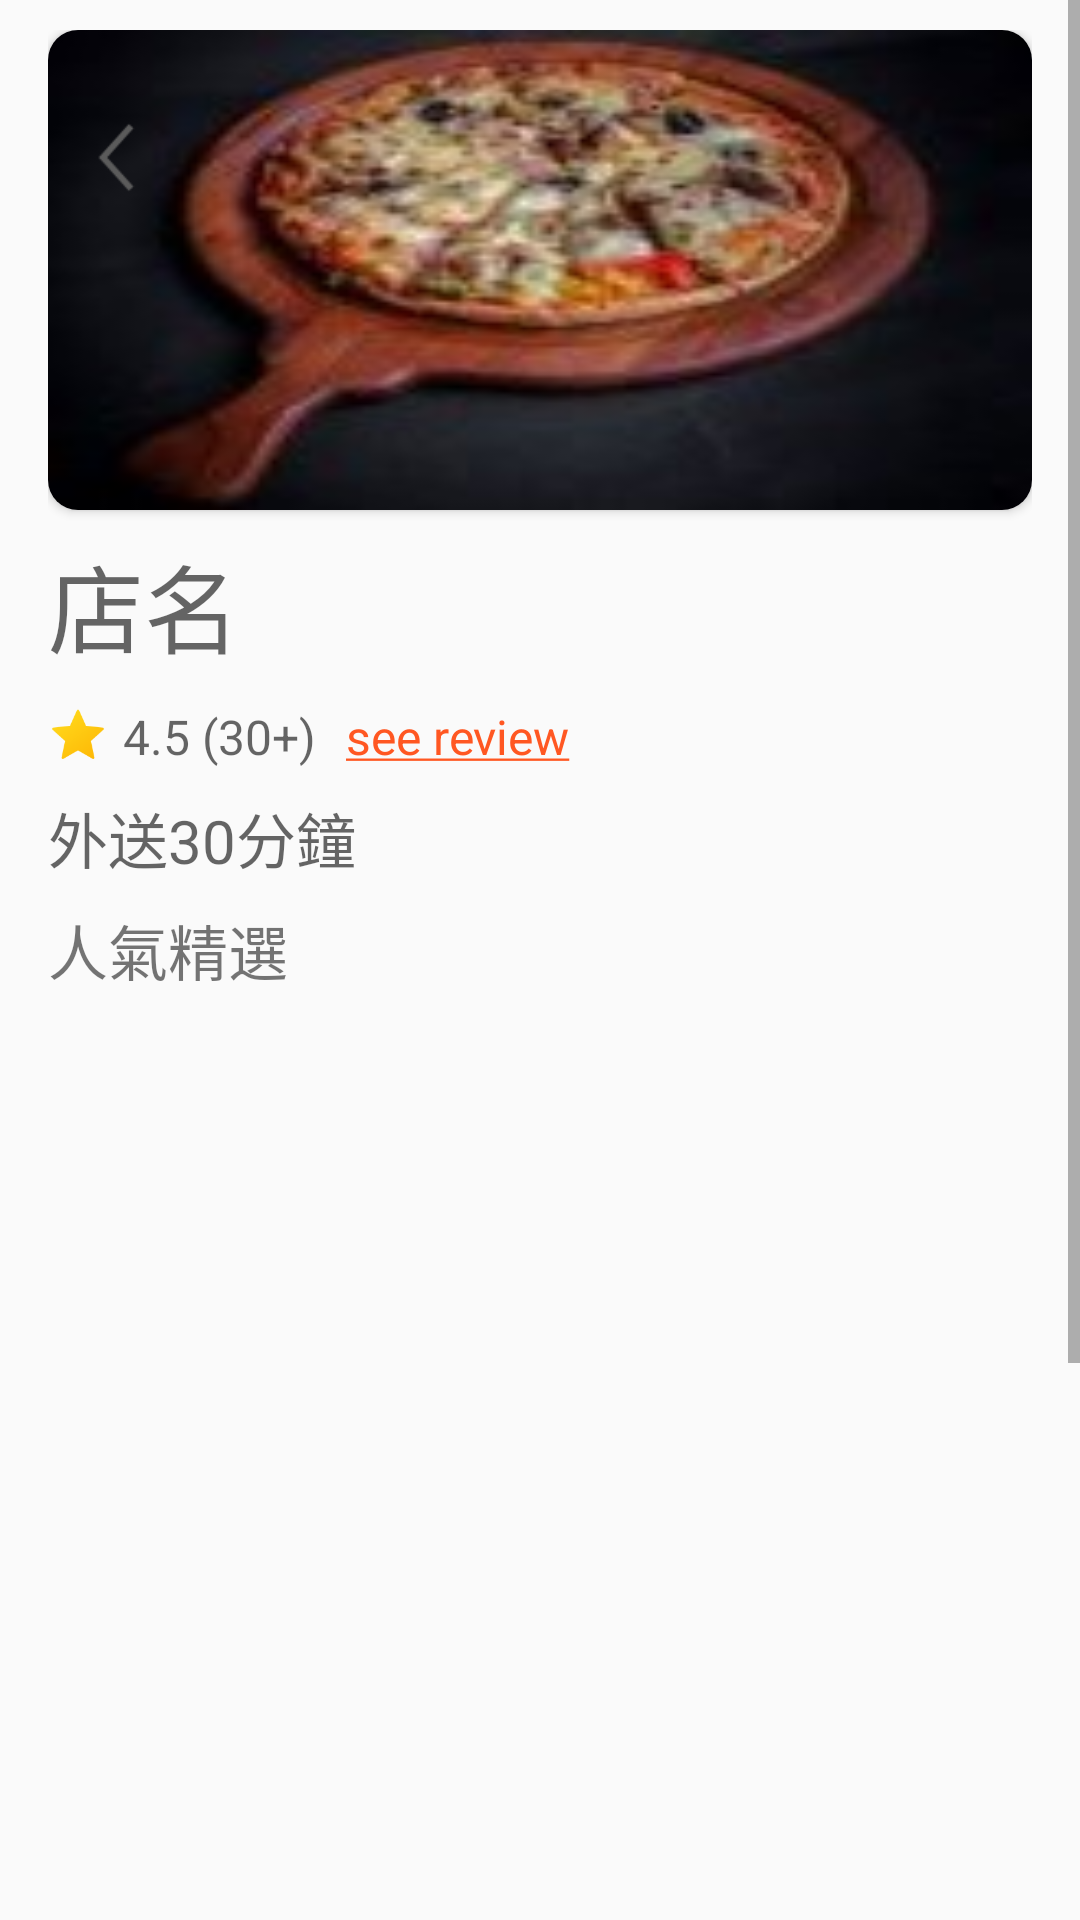

Icon bounding boxes for this 1080px x 1920px phone screenshot, format (x1, y1, x2, y2):
star: (52, 709, 104, 759)
